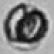correct: (2, 3, 50, 51)
